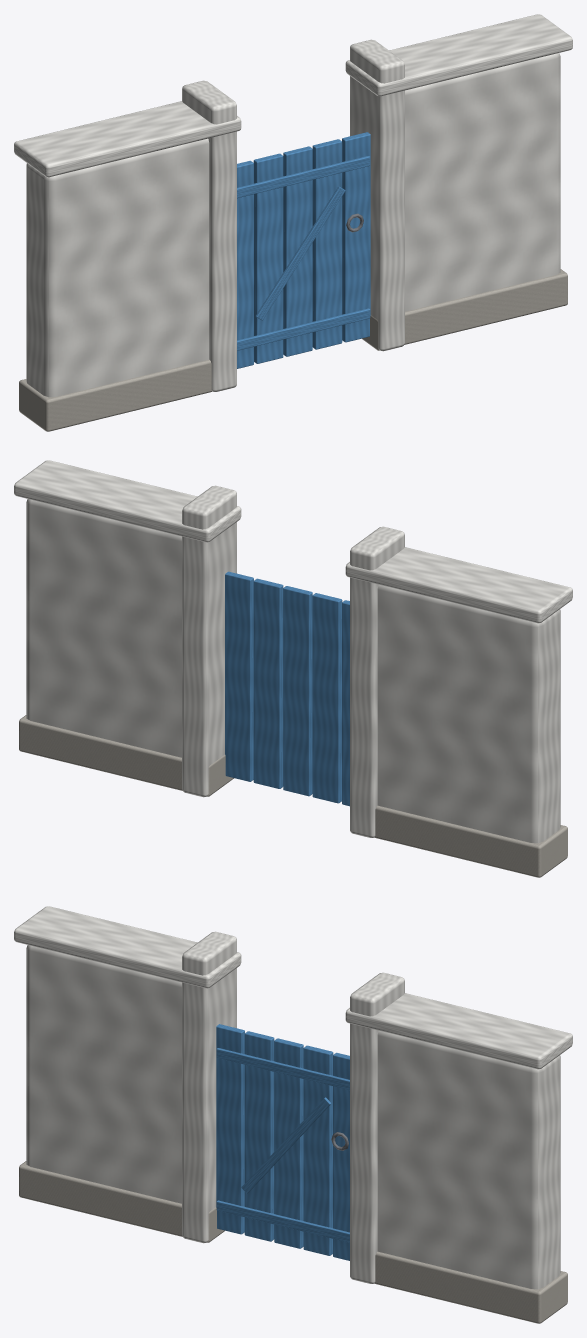
Rendered from greek-island-village-and-harbour-whitewashed-wall-run--c281bd03__37072.glb.
The picture shows the model from 3 angles, top to bottom: view 1: azimuth 30°, elevation 25°; view 2: azimuth 150°, elevation 25°; view 3: azimuth 330°, elevation 25°; orthographic projection.
Visible parts, largest first — view 1: whitewashed-wall-run-with-gate, gate-blue/blue; view 2: whitewashed-wall-run-with-gate, gate-blue/blue; view 3: whitewashed-wall-run-with-gate, gate-blue/blue.
Part boxes in pixels (x1,y1,x2,y2): whitewashed-wall-run-with-gate: (14, 14, 572, 431); gate-blue/blue: (237, 132, 370, 368); whitewashed-wall-run-with-gate: (14, 460, 572, 877); gate-blue/blue: (225, 571, 349, 806); whitewashed-wall-run-with-gate: (14, 906, 572, 1323); gate-blue/blue: (216, 1024, 349, 1260).
Bounding box in the file's own units: 4.09 × 2.12 × 0.4598.
Materials: 4 (3 with a texture image).
